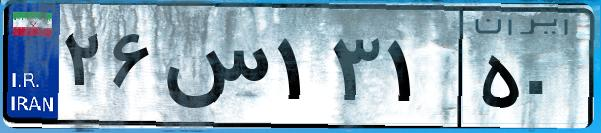0: (525, 38, 570, 115)
1: (270, 28, 330, 110), (385, 28, 445, 110)
2: (57, 26, 110, 100)
3: (330, 28, 385, 110)
5: (475, 38, 525, 113)
6: (110, 28, 158, 98)
س: (158, 20, 270, 120)
